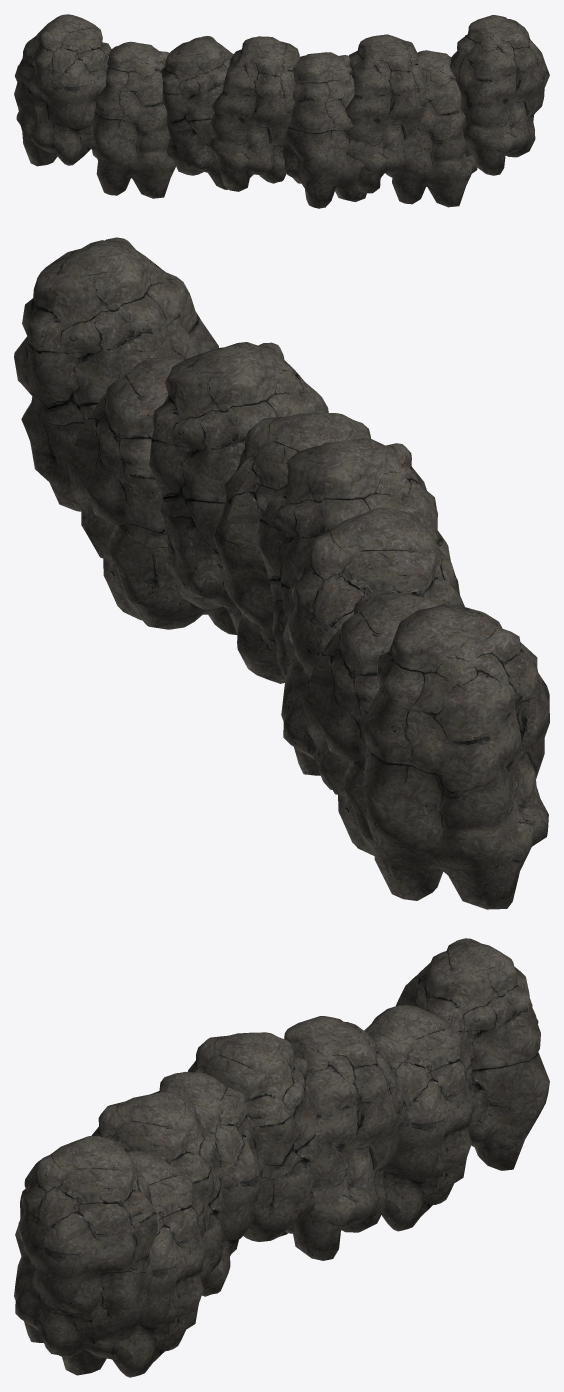
The model's file is TwinPeakRocksShape19.dae.
3 renders of one model, top to bottom at view 1: azimuth 30°, elevation 25°; view 2: azimuth 150°, elevation 25°; view 3: azimuth 270°, elevation 25°, orthographic. The views are drawn at different scales.
Parts seen in each view (by area): view 1: TwinPeakRocks19; view 2: TwinPeakRocks19; view 3: TwinPeakRocks19.
Boxes of the visible parts, x1,y1,x2,y2 form: TwinPeakRocks19: [14, 14, 549, 208]; TwinPeakRocks19: [14, 237, 549, 909]; TwinPeakRocks19: [14, 938, 549, 1377].
Bounding box in the file's own units: 174 × 77.45 × 137.
